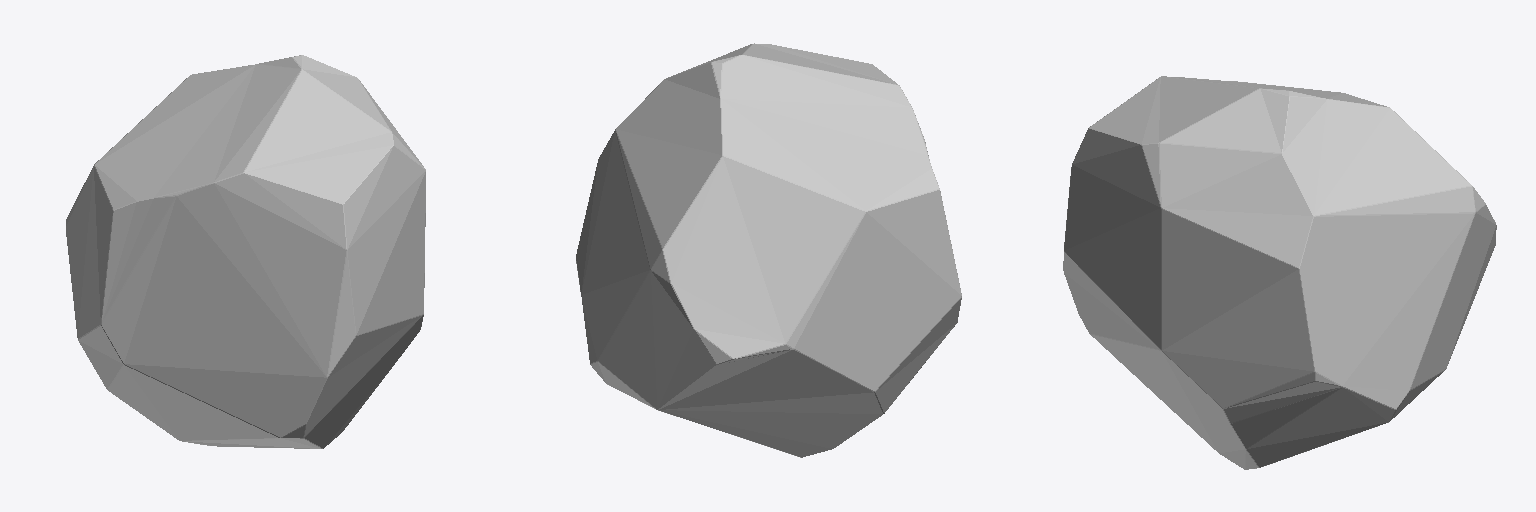
File: rock1.obj
3 renders of one model, left to right at view 1: azimuth 30°, elevation 25°; view 2: azimuth 150°, elevation 25°; view 3: azimuth 270°, elevation 25°, orthographic.
Parts seen in each view (by area): view 1: Cube.001; view 2: Cube.001; view 3: Cube.001.
Boxes of the visible parts, x1=… form: Cube.001: x1=66, y1=55, x2=425, y2=448; Cube.001: x1=576, y1=43, x2=961, y2=457; Cube.001: x1=1063, y1=76, x2=1496, y2=469.
Bounding box in the file's own units: 1.82 × 1.85 × 1.96.